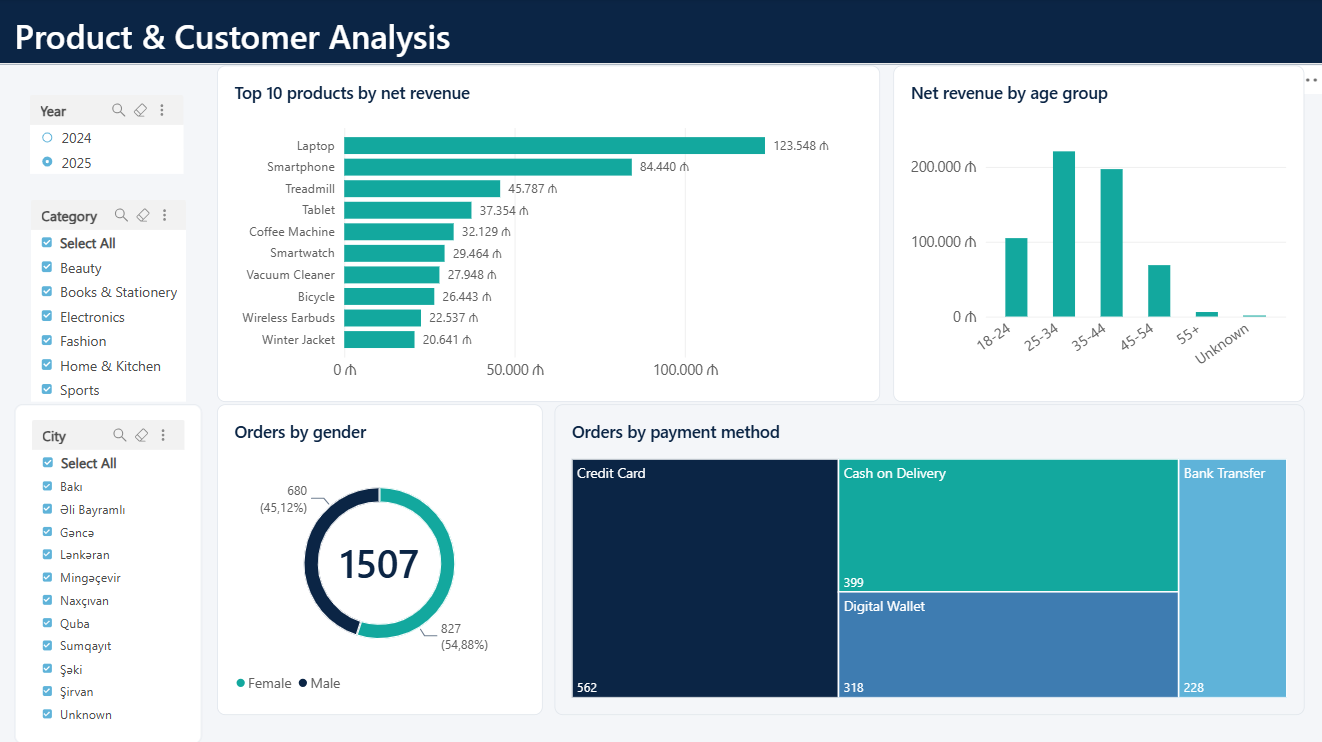

This screenshot's page, from the dashboard's own definition file:
{"tool":"powerbi","page":{"name":"Product & Customer","canvas":[1280,720],"ordinal":1},"visuals":[{"type":"shape","box":[0,0,1280,64],"z":1000},{"type":"textbox","box":[16.6,14,600,48],"z":2000},{"type":"clusteredBarChart","title":"Top 10 products by net revenue","fields":{"Category":["fact_sales.Product"],"Y":["fact_sales.Net Revenue"]},"box":[212.8,64.7,640,325.1],"z":5000},{"type":"clusteredColumnChart","title":"Net revenue by age group","fields":{"Category":["fact_sales.Age_Group"],"Y":["fact_sales.Net Revenue"]},"box":[864.7,64.7,396.6,325.1],"z":6000},{"type":"donutChart","title":"Orders by gender","fields":{"Category":["fact_sales.Gender"],"Y":["fact_sales.Total Orders"]},"box":[212,392,314,300],"z":7000},{"type":"treemap","title":"Orders by payment method","fields":{"Group":["fact_sales.Payment_Method"],"Values":["fact_sales.Total Orders"]},"box":[538,392,724,300],"z":8000},{"type":"PowerSlicerA96234ADB8D143D1837FEC426BB34781","fields":{"categories":["Calendar.Year"]},"box":[15.1,79.6,179.8,112.5],"z":8001},{"type":"PowerSlicerA96234ADB8D143D1837FEC426BB34781","fields":{"categories":["fact_sales.Category"]},"box":[16.5,181.1,181.1,227.8],"z":8002},{"type":"PowerSlicerA96234ADB8D143D1837FEC426BB34781","fields":{"categories":["fact_sales.City"]},"box":[16.5,392,181.1,328],"z":8003}]}

Visuals, with their boxes in screenshot pixels (x1, y1, x2, y2), scaled from the page's 1280x720 canvas onto the 1322x742 screenshot:
shape: (x1=0, y1=0, x2=1321, y2=66)
textbox: (x1=17, y1=14, x2=637, y2=64)
"Top 10 products by net revenue" clusteredBarChart: (x1=220, y1=67, x2=881, y2=402)
"Net revenue by age group" clusteredColumnChart: (x1=893, y1=67, x2=1303, y2=402)
"Orders by gender" donutChart: (x1=219, y1=404, x2=543, y2=713)
"Orders by payment method" treemap: (x1=556, y1=404, x2=1303, y2=713)
PowerSlicerA96234ADB8D143D1837FEC426BB34781 - Calendar.Year: (x1=16, y1=82, x2=201, y2=198)
PowerSlicerA96234ADB8D143D1837FEC426BB34781 - fact_sales.Category: (x1=17, y1=187, x2=204, y2=421)
PowerSlicerA96234ADB8D143D1837FEC426BB34781 - fact_sales.City: (x1=17, y1=404, x2=204, y2=741)
